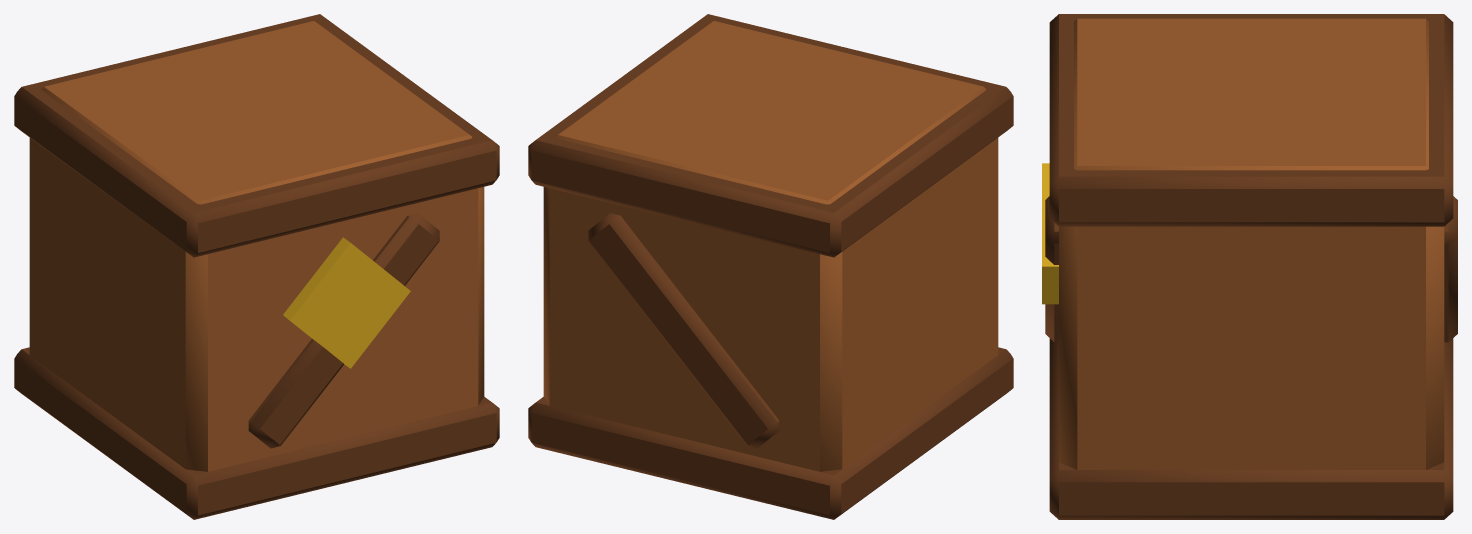
The model's file is c_crate.glb.
The picture shows the model from 3 angles, left to right: view 1: azimuth 30°, elevation 25°; view 2: azimuth 150°, elevation 25°; view 3: azimuth 270°, elevation 25°; orthographic projection. The views are drawn at different scales.
Parts seen in each view (by area): view 1: body; view 2: body; view 3: body.
Boxes of the visible parts, <box> form: body: <box>14,14,499,519</box>; body: <box>528,14,1013,519</box>; body: <box>1042,14,1457,519</box>.
Size of the model in its own units: 0.44 by 0.42 by 0.4534.
